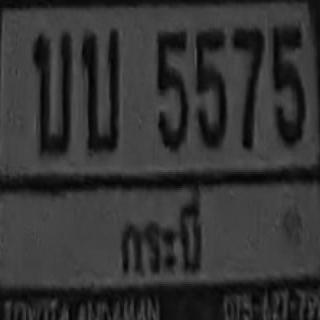A26: (22, 13, 82, 167), (78, 17, 132, 169)
P19: (101, 187, 223, 279)
